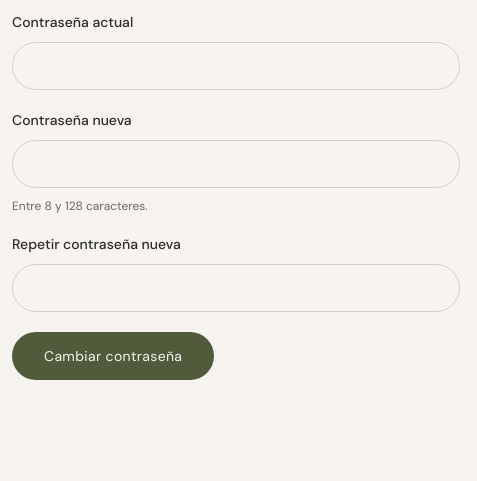
Test: formulario de cambio de contrasena › si no se pueden cerrar las otras sesiones lo avisa y permite reintentar hasta lograrlo
Type "contrasena-actual-123" into the password field labelled "Contraseña actual".
click(236, 66); type("contrasena-actual-123")  # box [12,42,460,90]
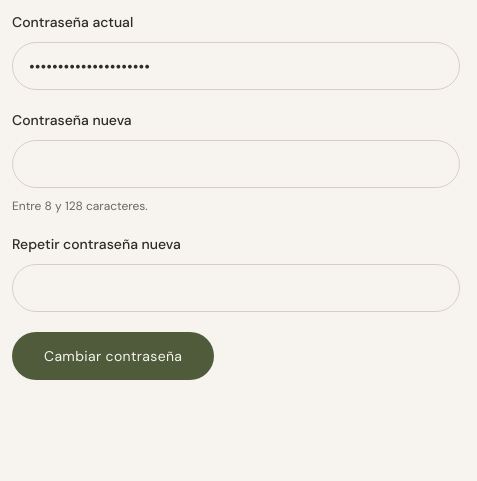
Type "contrasena-nueva-456" into the password field labelled "Contraseña nueva".
click(236, 164); type("contrasena-nueva-456")  # box [12,140,460,188]
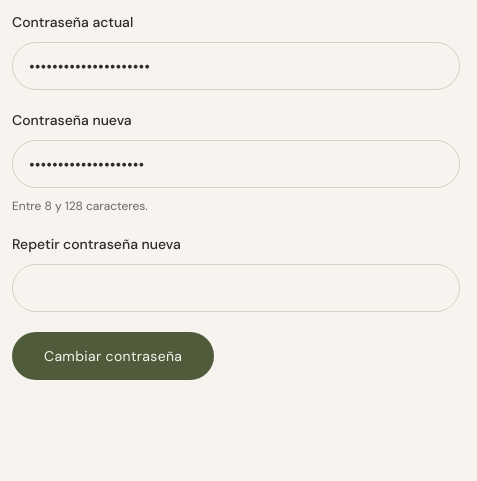
Type "contrasena-nueva-456" into the password field labelled "Repetir contraseña nueva".
click(236, 288); type("contrasena-nueva-456")  # box [12,264,460,312]
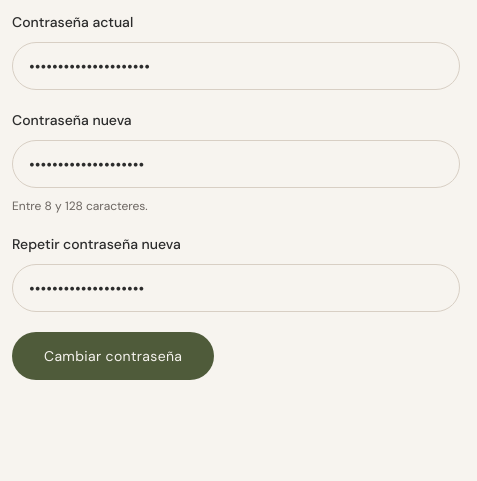
Click the button "Cambiar contraseña".
click(113, 356)  # box [12,332,214,380]
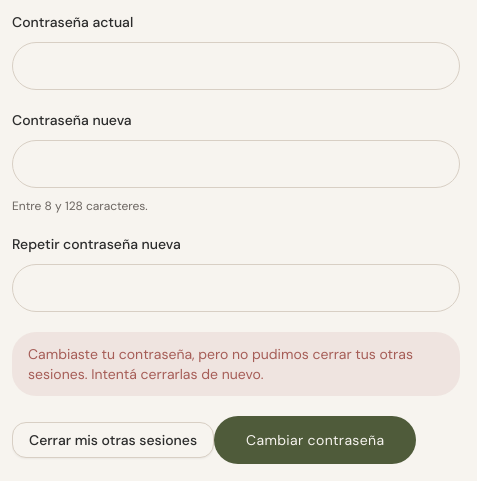
Expected: the message shows "no pudimos cerrar tus otras sesiones", [28,345,413,383]
Click the button "Cerrar mis otras sesiones".
click(113, 440)  # box [12,422,214,458]
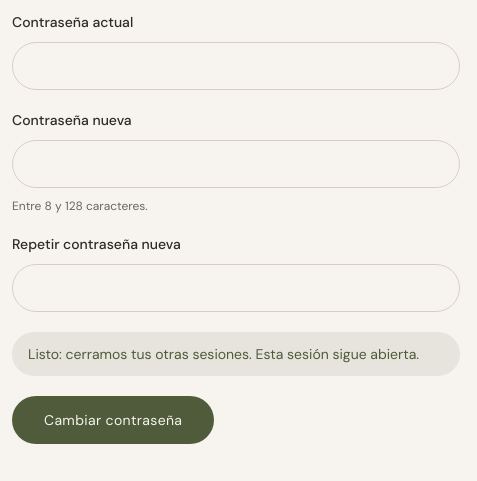
Expected: the message shows "cerramos tus otras sesiones", [28,345,419,363]
Expected: the button "Cerrar mis otras sesiones" is gone
